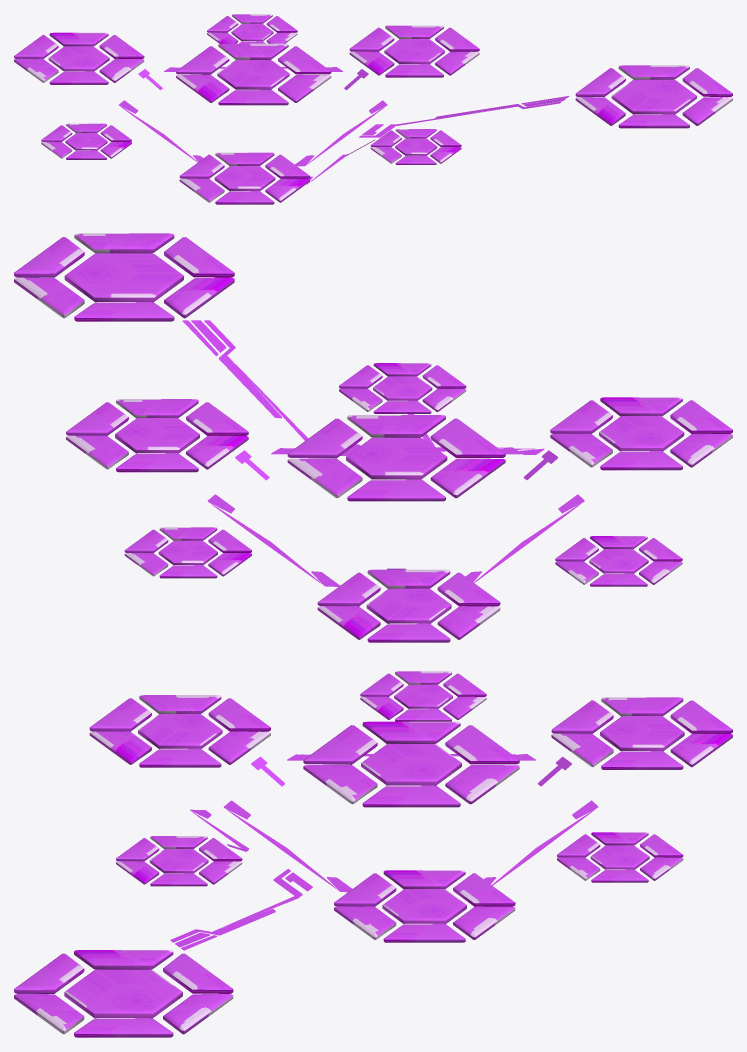
The model's file is sombra_hack.obj.
3 renders of one model, top to bottom at view 1: azimuth 30°, elevation 25°; view 2: azimuth 150°, elevation 25°; view 3: azimuth 270°, elevation 25°, orthographic. The views are drawn at different scales.
Parts seen in each view (by area): view 1: Submesh_0.255.186371A20AD5C032; view 2: Submesh_0.255.186371A20AD5C032; view 3: Submesh_0.255.186371A20AD5C032.
Boxes of the visible parts, box(x1,y1,x2,y2) form: Submesh_0.255.186371A20AD5C032: box(14, 14, 732, 204); Submesh_0.255.186371A20AD5C032: box(14, 233, 732, 642); Submesh_0.255.186371A20AD5C032: box(14, 671, 732, 1037).
Bounding box in the file's own units: 0.2094 × 0.0173 × 0.168.
